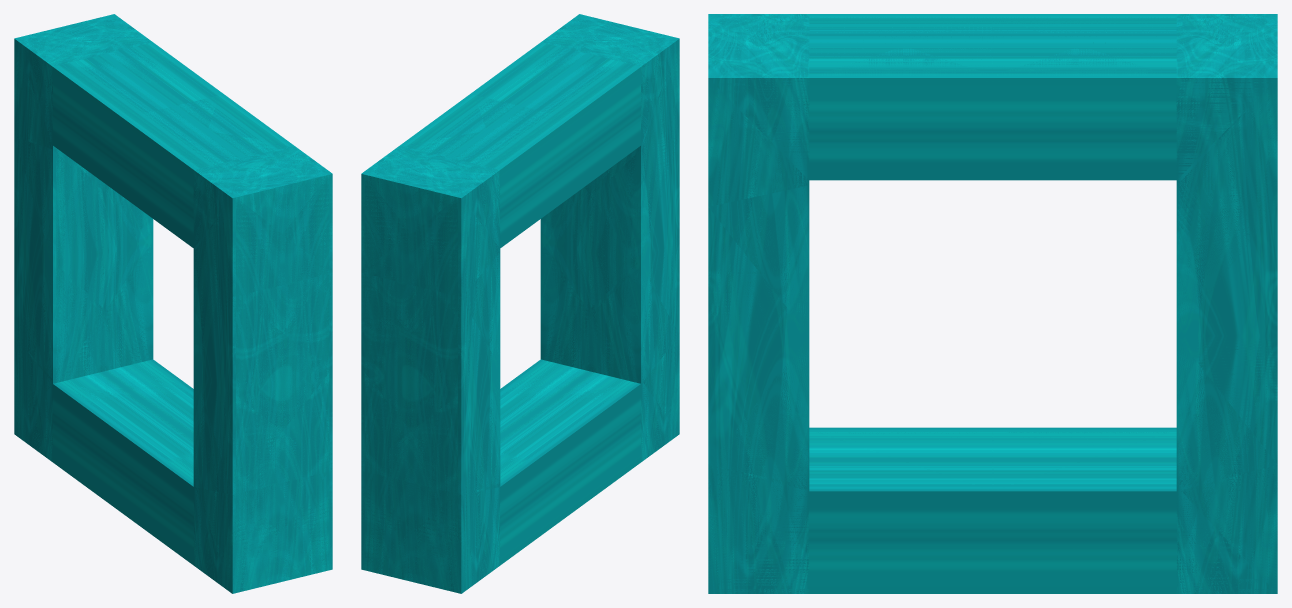
File: 3DReticle.obj
3 renders of one model, left to right at view 1: azimuth 30°, elevation 25°; view 2: azimuth 150°, elevation 25°; view 3: azimuth 270°, elevation 25°, orthographic. The views are drawn at different scales.
Visible parts, largest first — view 1: Cube; view 2: Cube; view 3: Cube.
Boxes of the visible parts, x1,y1,x2,y2 form: Cube: (14,14,332,593); Cube: (361,14,679,593); Cube: (708,14,1277,593).
Bounding box in the file's own units: 0.5305 × 2 × 2.
1 material, 1 textured.
